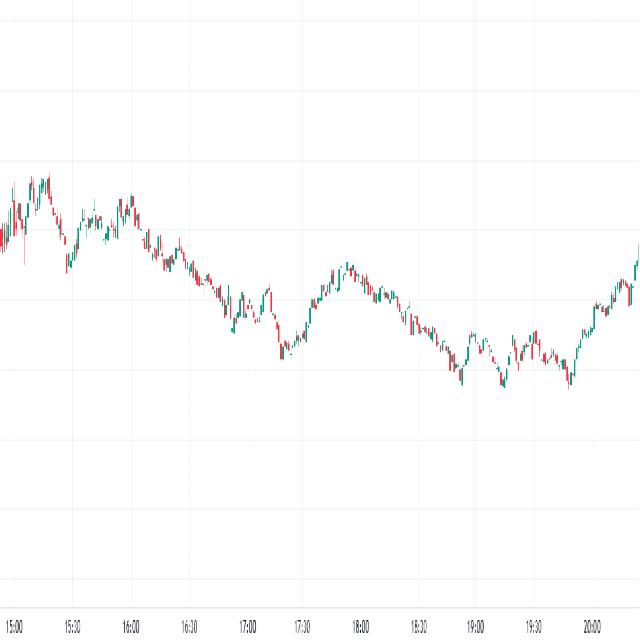Channel-down: (127, 176, 279, 374), (342, 233, 466, 401), (39, 151, 77, 299)
Channel-up: (277, 241, 346, 391)
